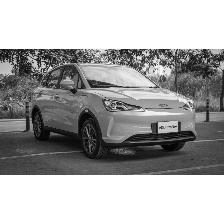EV: (31, 64, 199, 160)
